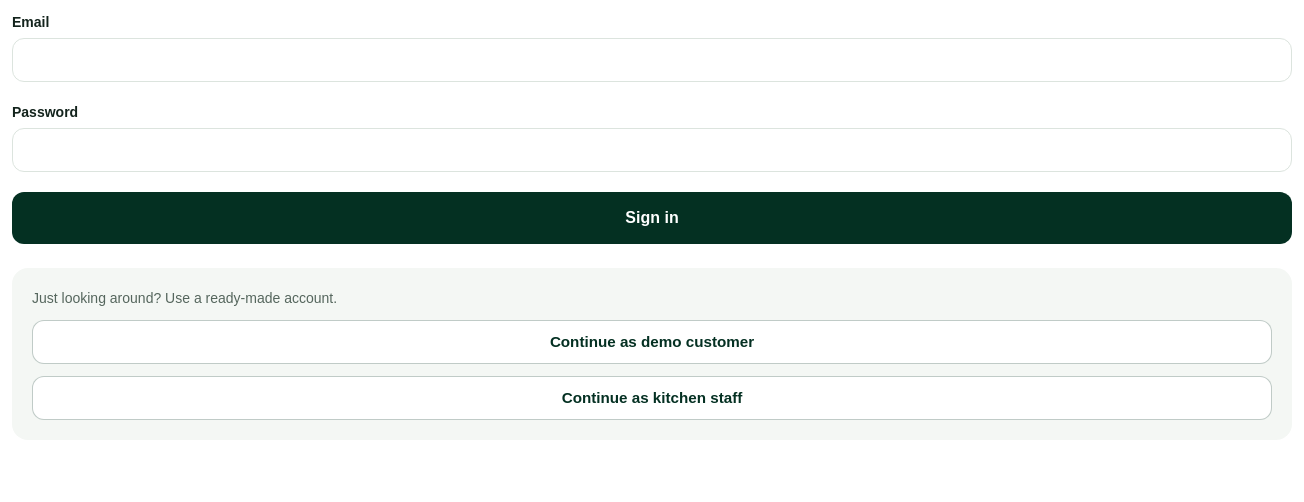
Scenario: AuthForm signing in › shows the server's reason when sign-in is refused
Type "asha@example.com" into the field labelled "Email" at x=652, y=60, box x1=12 y1=38 x2=1292 y2=82
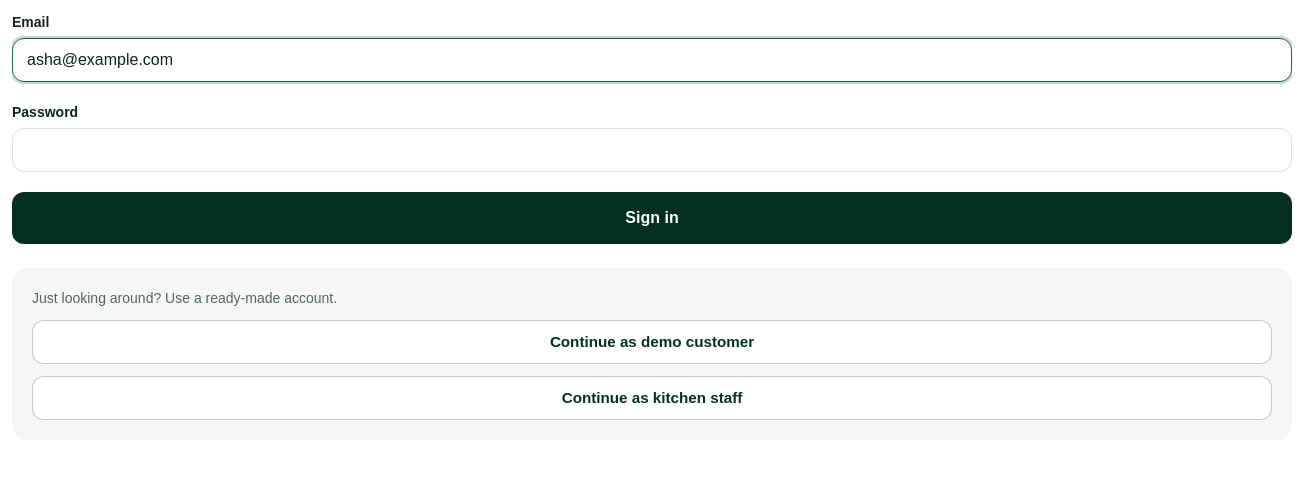
Type "wrong-password" into the password field labelled "Password" at x=652, y=150, box x1=12 y1=128 x2=1292 y2=172
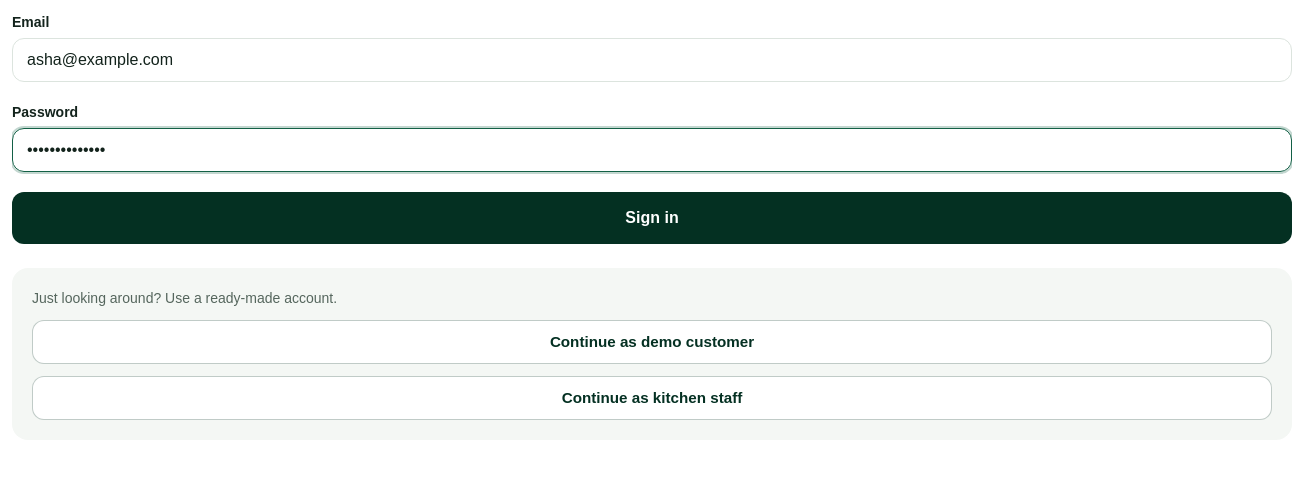
Click the button "Sign in" at x=652, y=218, box x1=12 y1=192 x2=1292 y2=244
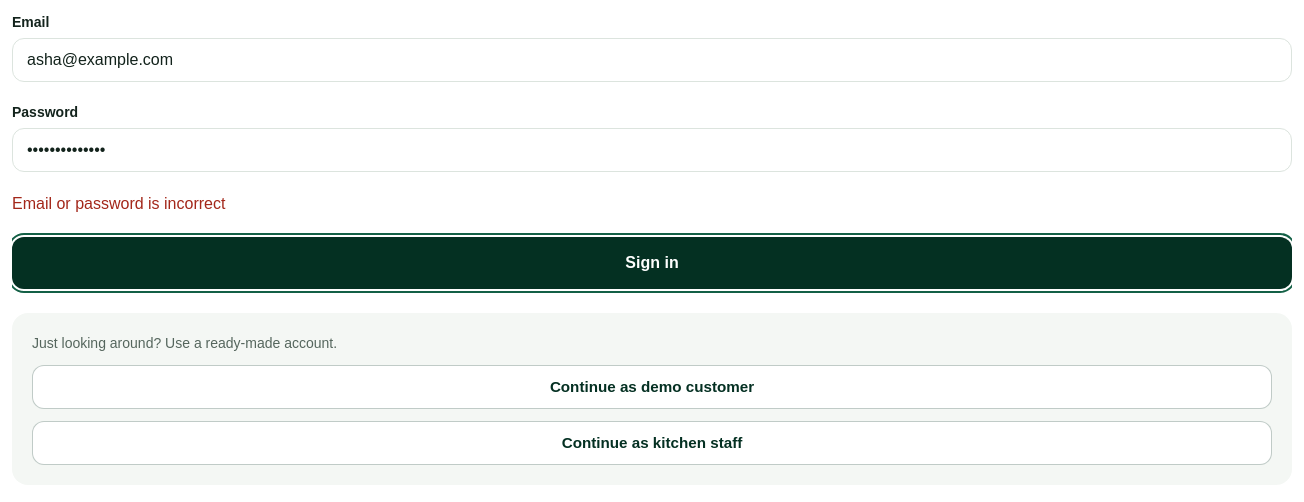
Check: the message reads "Email or password is incorrect", box x1=12 y1=195 x2=225 y2=212
